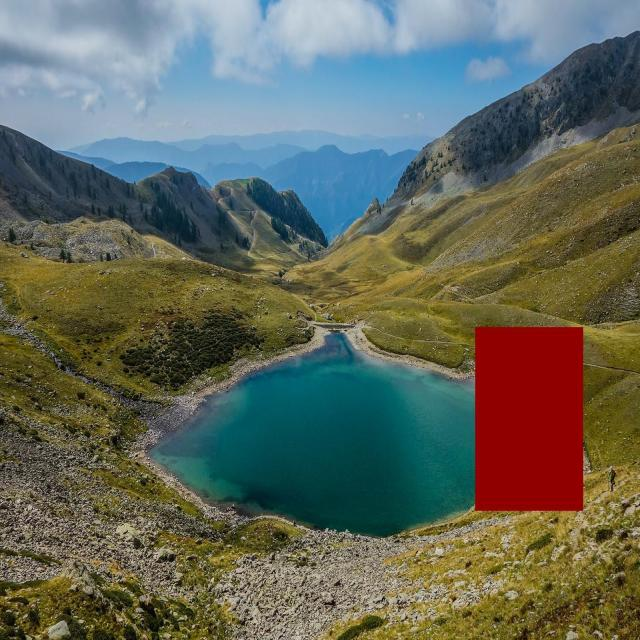RedSquare: (471, 318, 588, 516)
